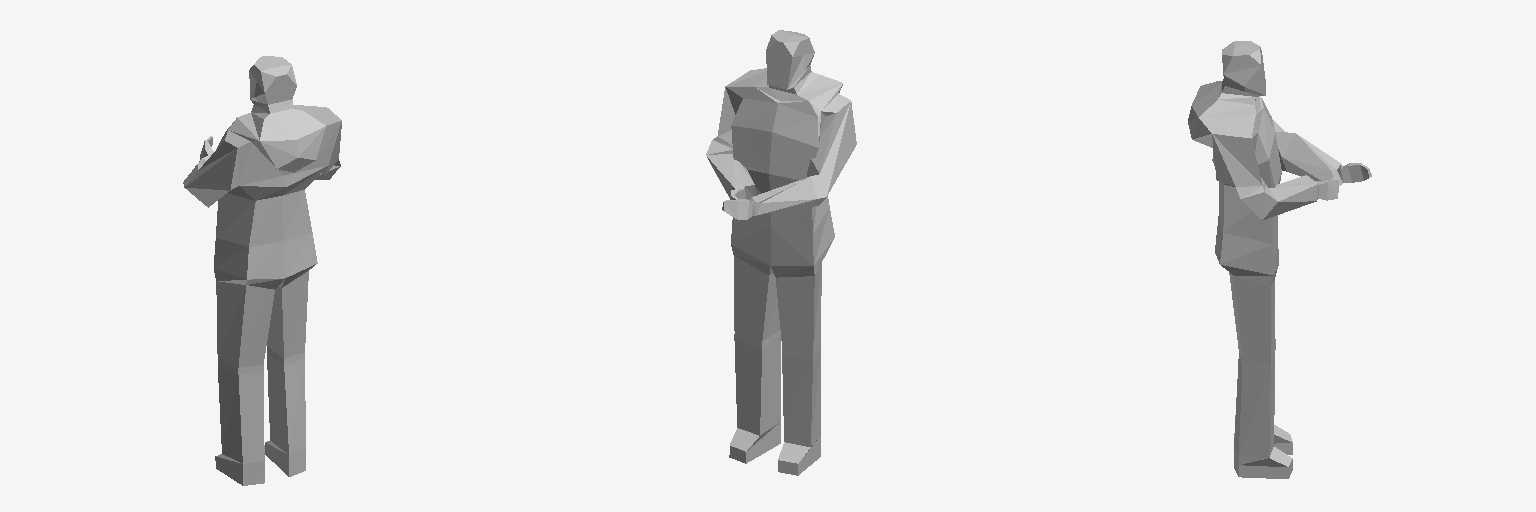
Rendered from player.obj.
3 renders of one model, left to right at view 1: azimuth 30°, elevation 25°; view 2: azimuth 150°, elevation 25°; view 3: azimuth 270°, elevation 25°, orthographic.
Parts seen in each view (by area): view 1: default; view 2: default; view 3: default.
Part boxes in pixels (left/top/right/bottom): default: left=183, top=56, right=341, bottom=485; default: left=706, top=30, right=856, bottom=475; default: left=1188, top=41, right=1371, bottom=478.
Bounding box in the file's own units: 0.6534 × 1.99 × 0.7995.